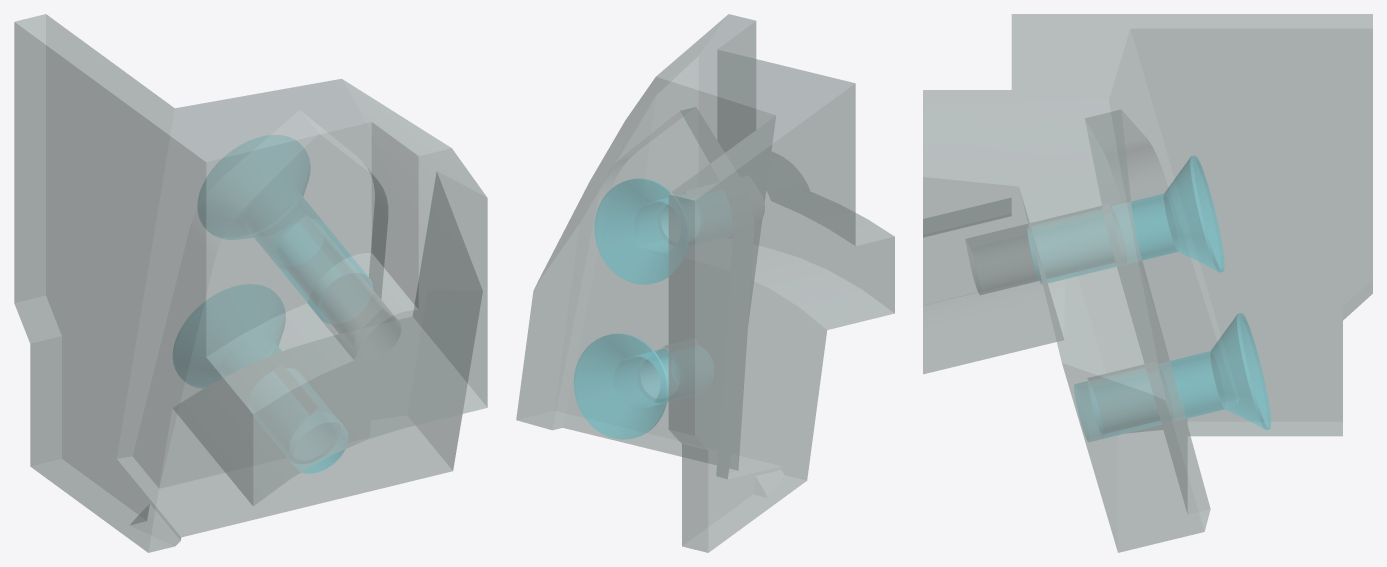
Rendered from detail_after.glb.
3 views of the same model, side by side, from view 1: azimuth 30°, elevation 25°; view 2: azimuth 150°, elevation 25°; view 3: azimuth 270°, elevation 25° (orthographic). The views are drawn at different scales.
Visible parts, largest first — view 1: R-H-02 cropped 28..39 -31..-16 -2..13, /HACKberry_R_v16/R-H_v26/flatScrewM2L6PHI3_3T1_v1 (×2); view 2: R-H-02 cropped 28..39 -31..-16 -2..13, /HACKberry_R_v16/R-H_v26/flatScrewM2L6PHI3_3T1_v1 (×2); view 3: R-H-02 cropped 28..39 -31..-16 -2..13, /HACKberry_R_v16/R-H_v26/flatScrewM2L6PHI3_3T1_v1 (×2).
Boxes of the visible parts, box(x1,y1,x2,y2) form: R-H-02 cropped 28..39 -31..-16 -2..13: box(14, 14, 487, 552); /HACKberry_R_v16/R-H_v26/flatScrewM2L6PHI3_3T1_v1 (×2): box(173, 135, 372, 473); R-H-02 cropped 28..39 -31..-16 -2..13: box(516, 14, 894, 552); /HACKberry_R_v16/R-H_v26/flatScrewM2L6PHI3_3T1_v1 (×2): box(573, 178, 699, 439); R-H-02 cropped 28..39 -31..-16 -2..13: box(923, 14, 1372, 552); /HACKberry_R_v16/R-H_v26/flatScrewM2L6PHI3_3T1_v1 (×2): box(1028, 155, 1270, 441).
Bounding box in the file's own units: 0.011 × 0.015 × 0.015.
